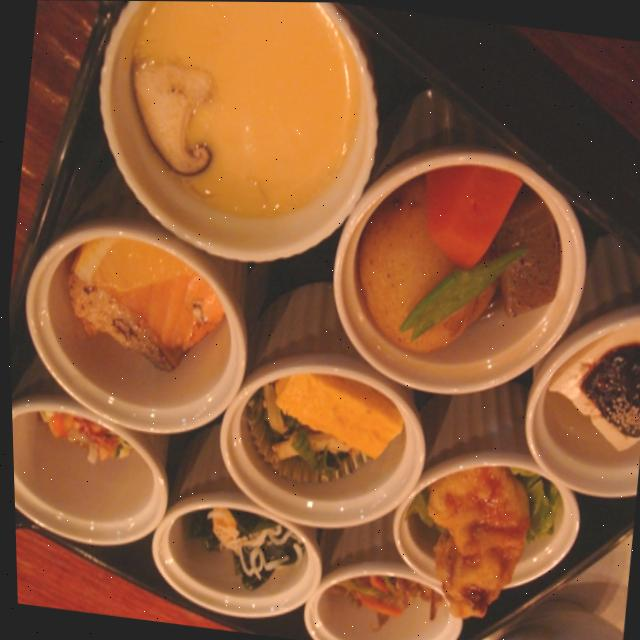鸡蛋料理: (47, 0, 414, 290)
